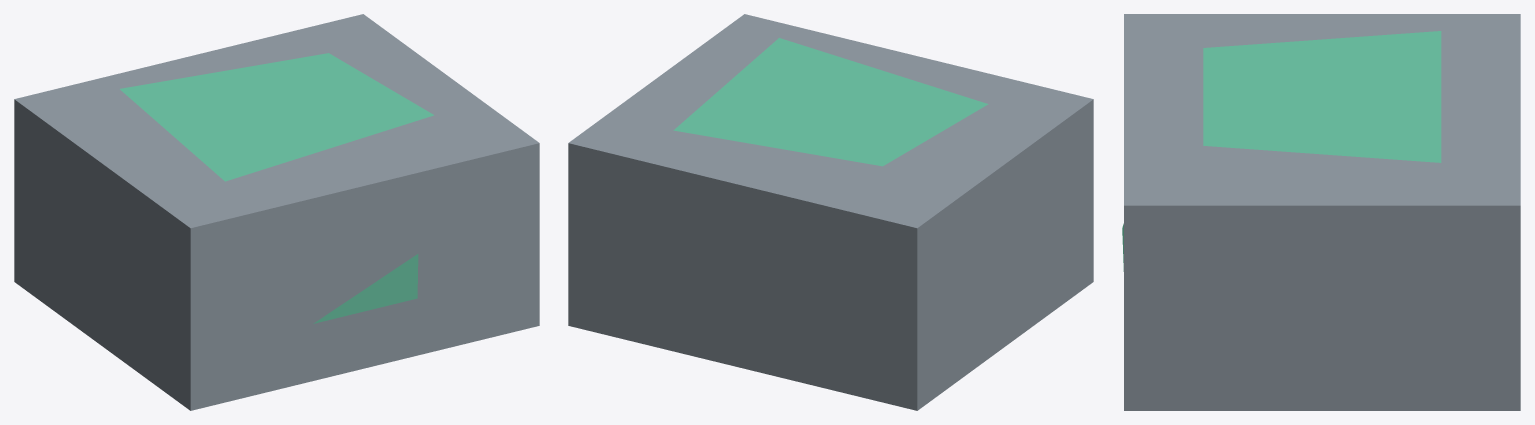
File: CO_MCV_MobileNode_LOD1.glb
3 views of the same model, side by side, from view 1: azimuth 30°, elevation 25°; view 2: azimuth 150°, elevation 25°; view 3: azimuth 270°, elevation 25° (orthographic). The views are drawn at different scales.
Parts seen in each view (by area): view 1: EntranceGate; view 2: EntranceGate; view 3: EntranceGate.
Boxes of the visible parts, x1,y1,x2,y2 form: EntranceGate: [14, 14, 539, 410]; EntranceGate: [568, 14, 1093, 410]; EntranceGate: [1122, 14, 1520, 410].
Size of the model in its own units: 800 by 442 by 703.
